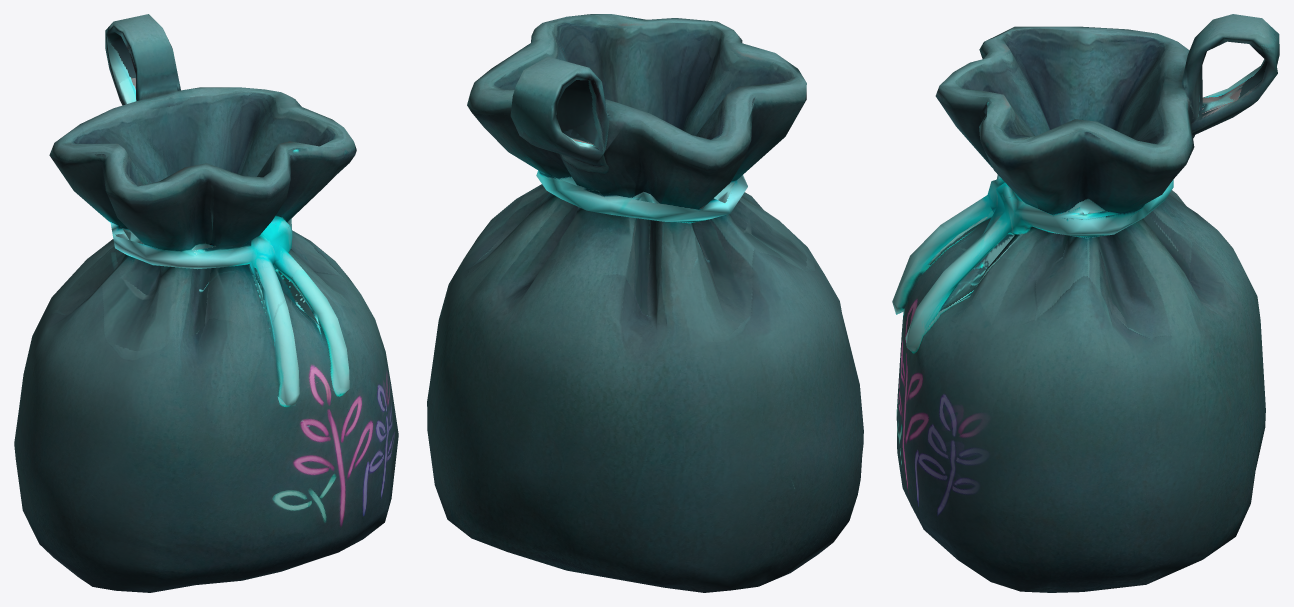
The model's file is Teal_Pouch_Glowing_Leaves_1296.fbx.
The picture shows the model from 3 angles, left to right: view 1: azimuth 30°, elevation 25°; view 2: azimuth 150°, elevation 25°; view 3: azimuth 270°, elevation 25°; orthographic projection. The views are drawn at different scales.
Parts seen in each view (by area): view 1: Teal_Pouch_Glowing_Leaves_1296; view 2: Teal_Pouch_Glowing_Leaves_1296; view 3: Teal_Pouch_Glowing_Leaves_1296.
Part boxes in pixels (<box>): Teal_Pouch_Glowing_Leaves_1296: <box>14,14,398,592</box>; Teal_Pouch_Glowing_Leaves_1296: <box>427,14,863,592</box>; Teal_Pouch_Glowing_Leaves_1296: <box>892,14,1279,592</box>.
Size of the model in its own units: 0.2702 by 0.35 by 0.2454.
Materials: 1 (1 with a texture image).
